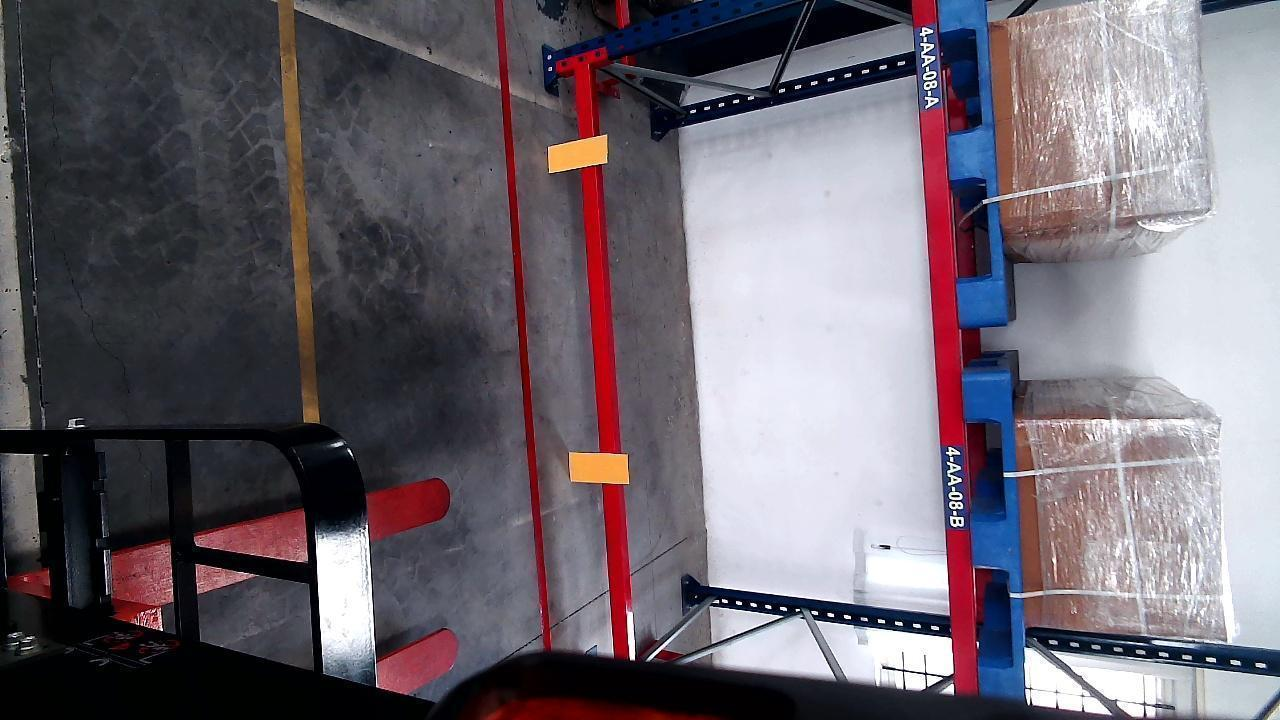red_line: (496, 0, 554, 644)
